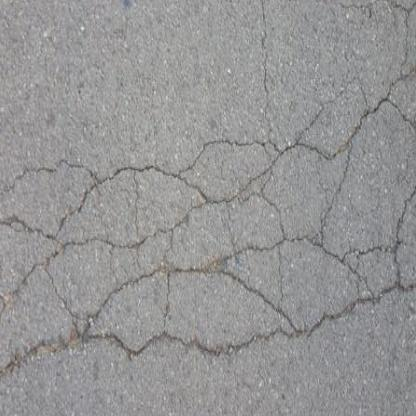Cracks: (0, 186, 403, 308), (0, 126, 321, 250), (0, 308, 400, 402), (346, 79, 416, 346), (294, 57, 416, 166), (244, 0, 289, 149), (378, 0, 416, 88), (170, 0, 385, 9)
